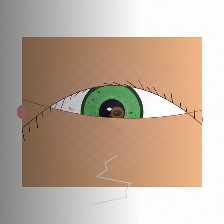foreign_body_visible: (97, 96, 138, 130)
